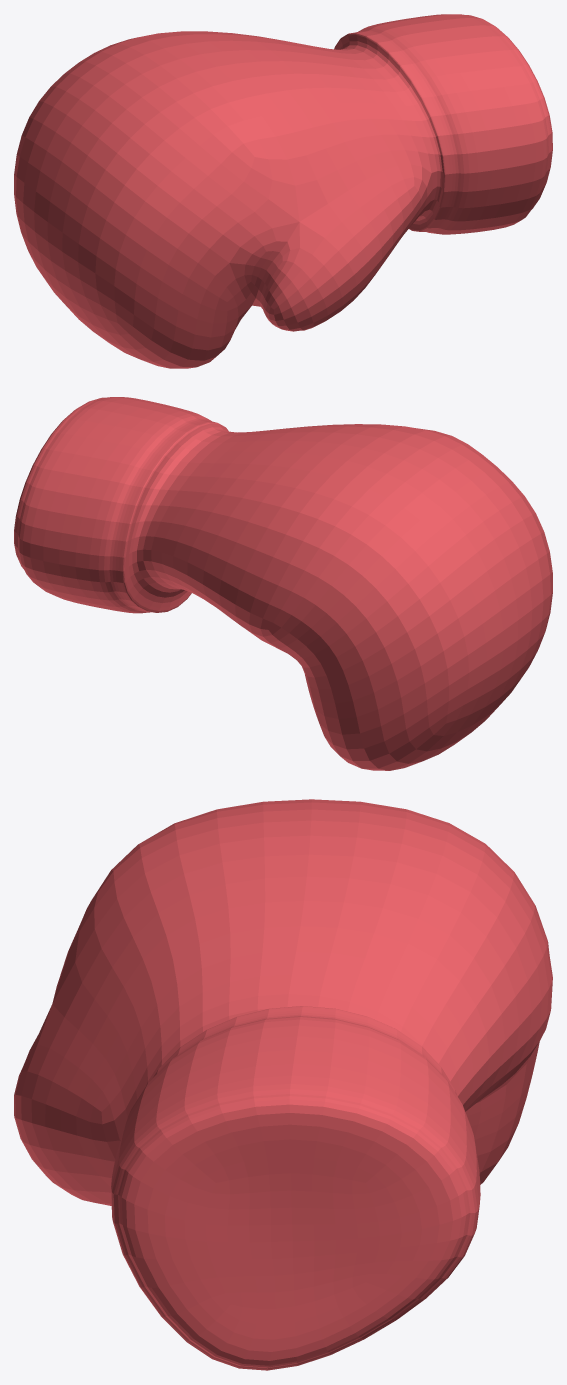
The model's file is box_yumruk_reng.fbx.
3 views of the same model, one above another, from view 1: azimuth 30°, elevation 25°; view 2: azimuth 150°, elevation 25°; view 3: azimuth 270°, elevation 25° (orthographic). The views are drawn at different scales.
Visible parts, largest first — view 1: yumruk2; view 2: yumruk2; view 3: yumruk2.
Boxes of the visible parts, box(x1,y1,x2,y2) form: yumruk2: box(14, 14, 552, 368); yumruk2: box(14, 397, 552, 770); yumruk2: box(14, 799, 552, 1370).
Size of the model in its own units: 12.64 by 7.56 by 8.8.
